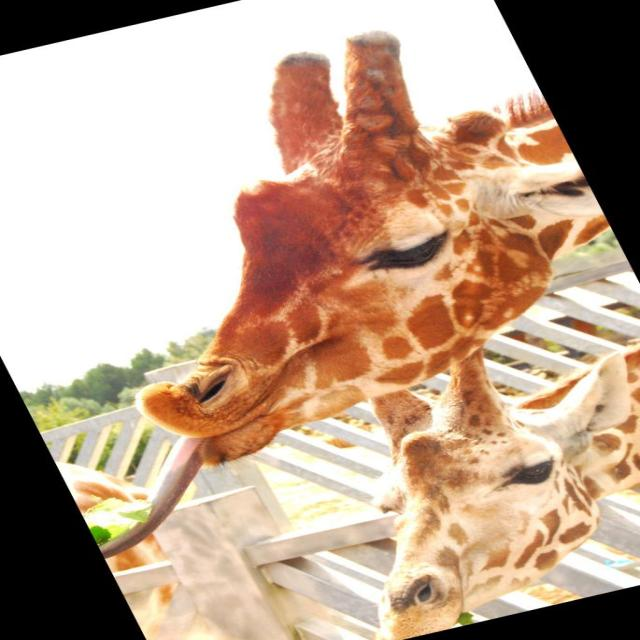Giraffe: (141, 23, 640, 611)
